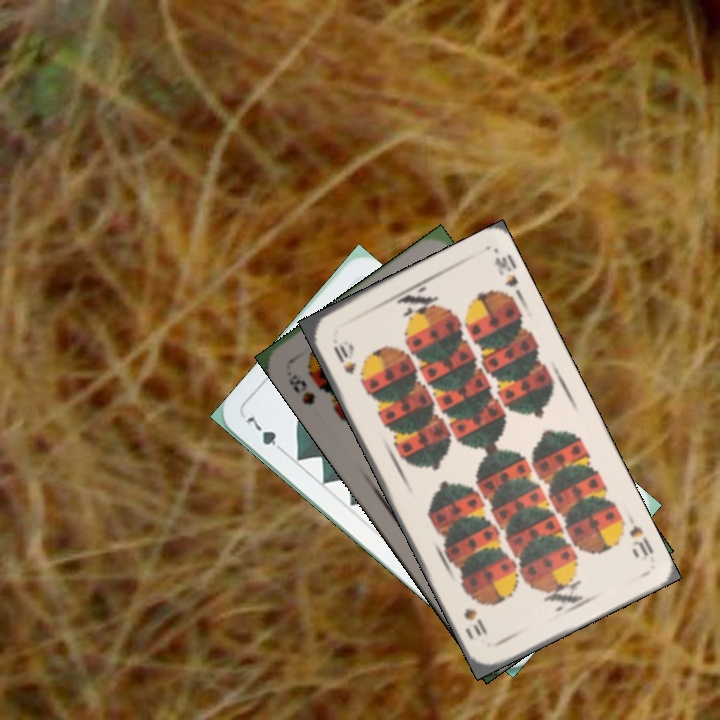G7: (241, 410, 289, 456)
S10: (625, 520, 657, 561), (329, 340, 359, 377)
S8: (284, 369, 318, 408)
